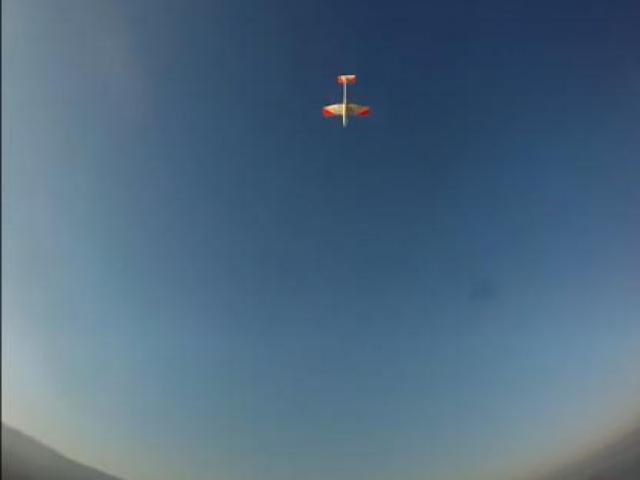uav: (318, 66, 372, 137)
